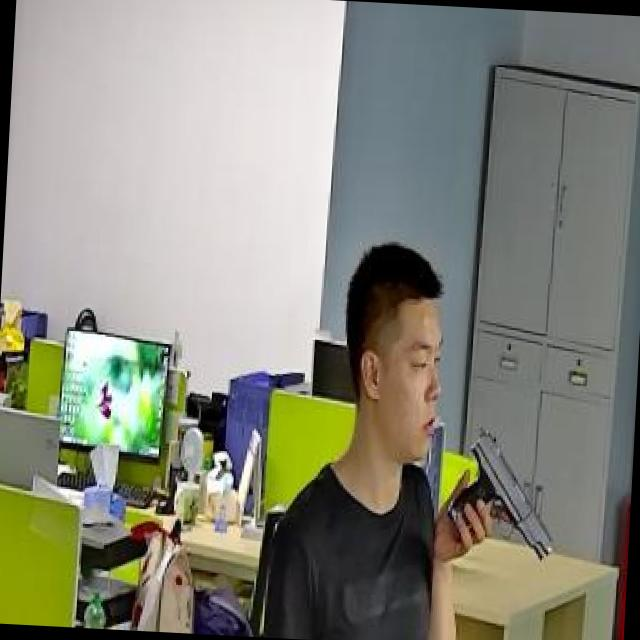Guns: (429, 417, 568, 570)
